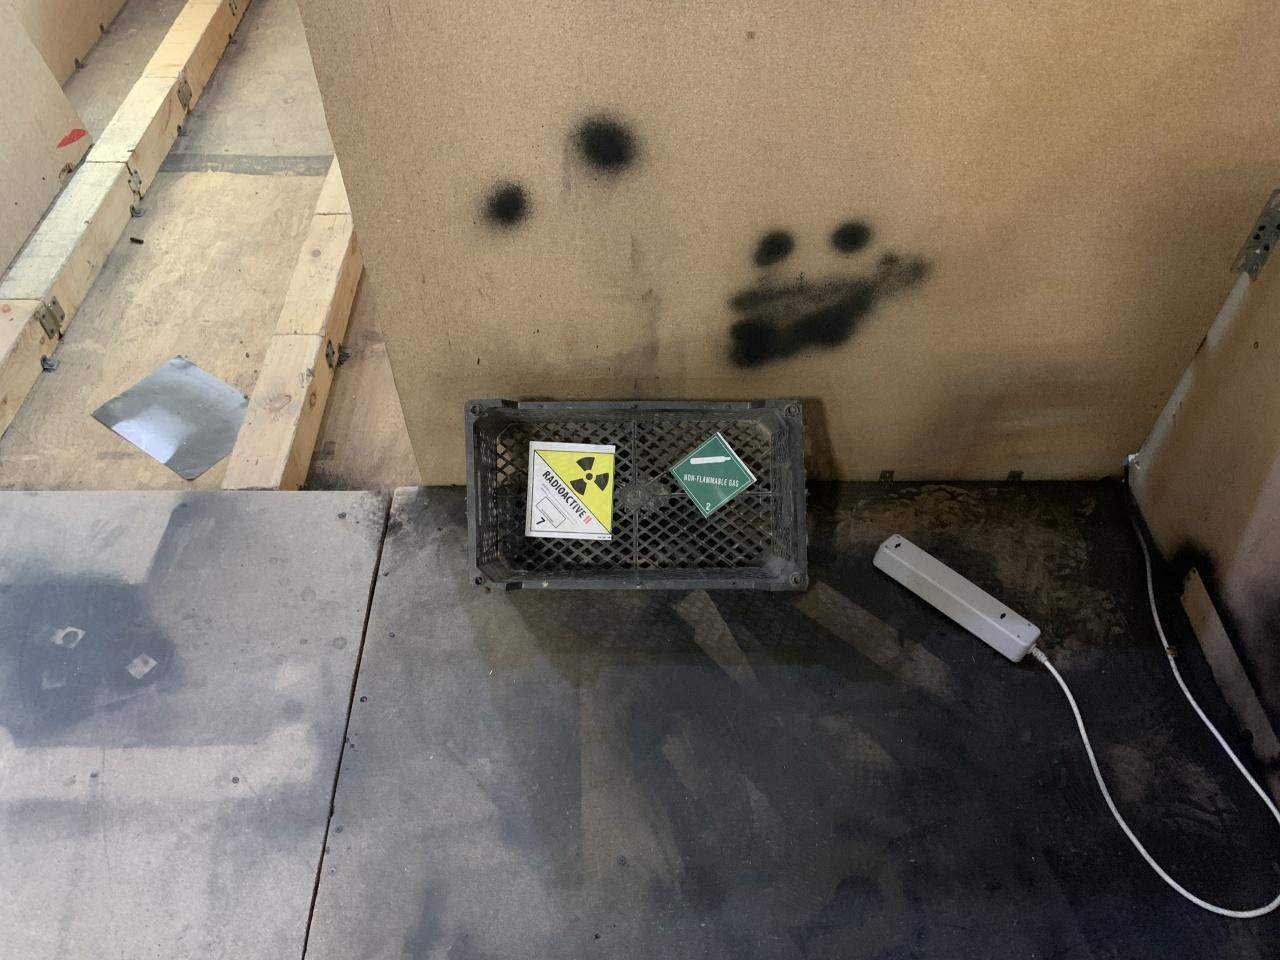non-flammable-gas: (671, 427, 757, 519)
radioactive: (524, 446, 616, 537)
